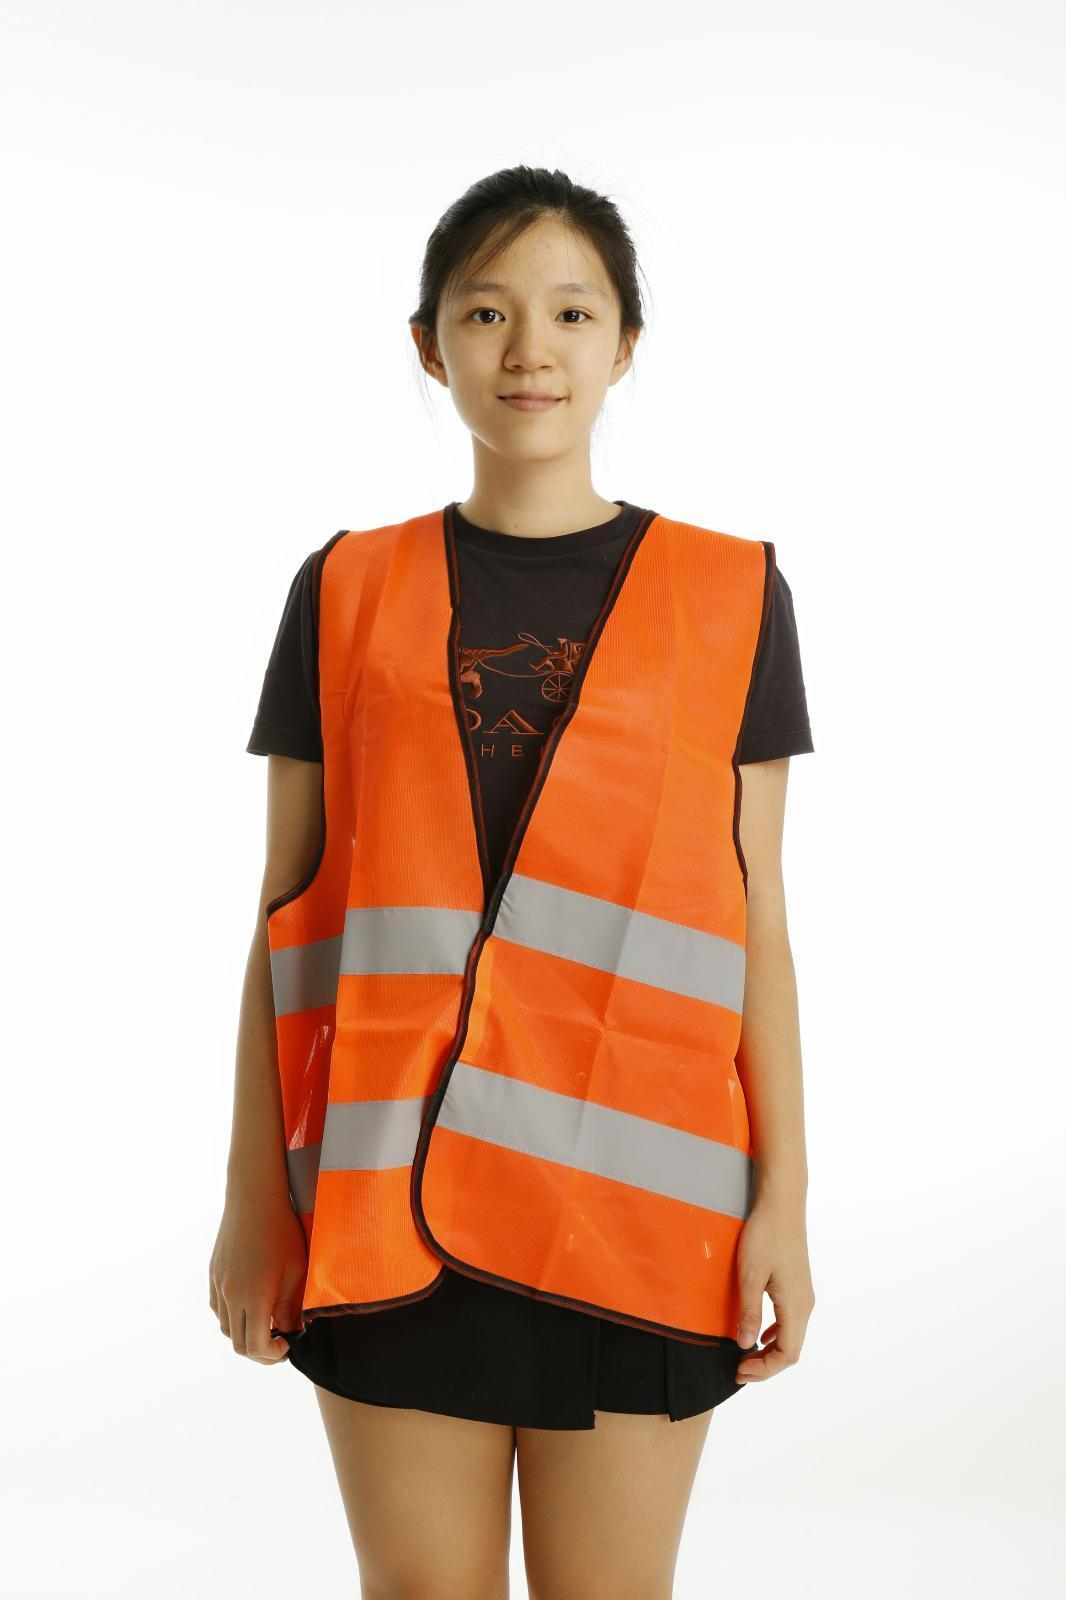vest: (264, 517, 776, 1347)
